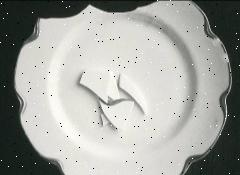glass: (14, 0, 232, 175)
